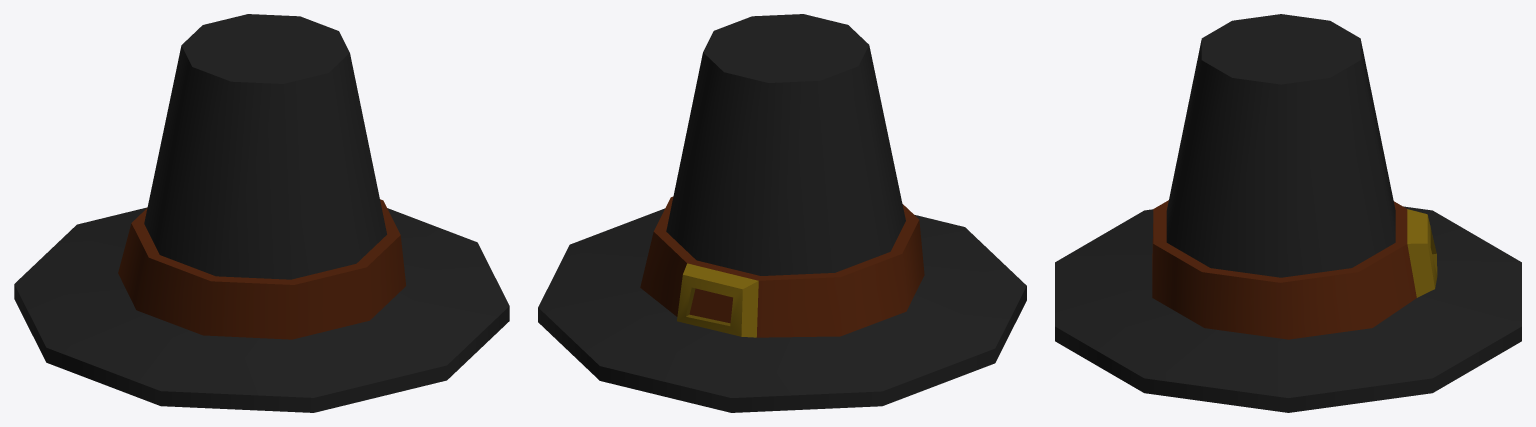
Rendered from hat_pilgrim.glb.
3 views of the same model, side by side, from view 1: azimuth 30°, elevation 25°; view 2: azimuth 150°, elevation 25°; view 3: azimuth 270°, elevation 25° (orthographic).
Visible parts, largest first — view 1: hat_pilgrim; view 2: hat_pilgrim; view 3: hat_pilgrim.
Boxes of the visible parts, <box> form: hat_pilgrim: <box>14,14,509,412</box>; hat_pilgrim: <box>538,14,1026,412</box>; hat_pilgrim: <box>1055,14,1521,412</box>.
Bounding box in the file's own units: 0.3583 × 0.2098 × 0.3407.
